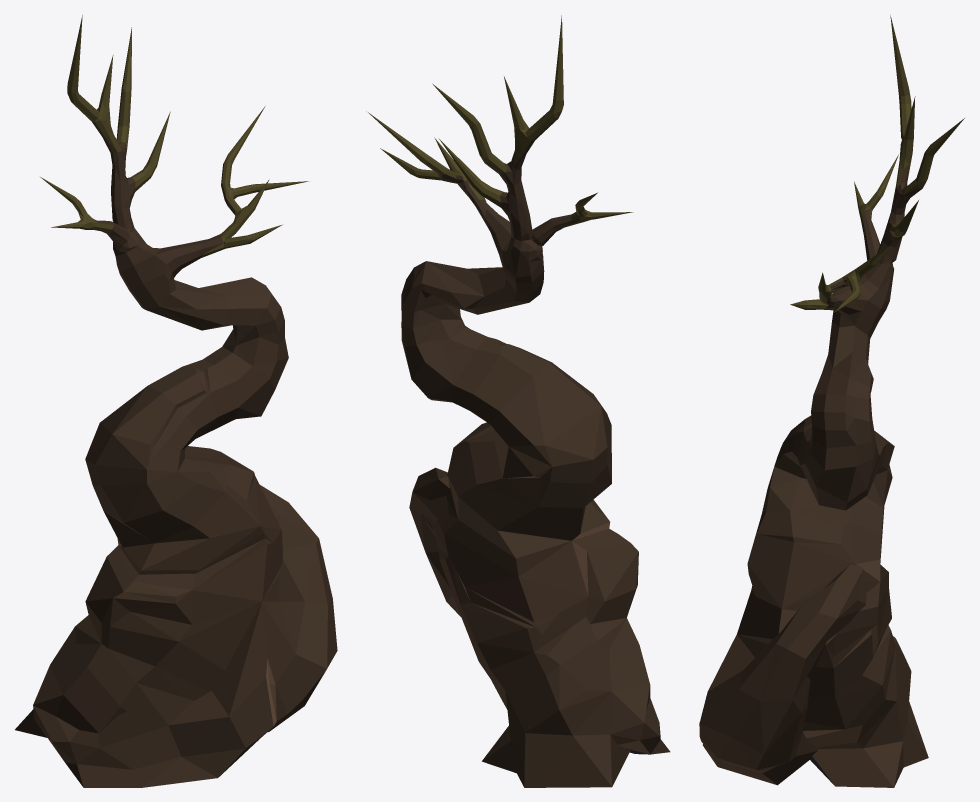
Rendered from SM_Tree_010.glb.
3 renders of one model, left to right at view 1: azimuth 30°, elevation 25°; view 2: azimuth 150°, elevation 25°; view 3: azimuth 270°, elevation 25°, orthographic. The views are drawn at different scales.
Parts seen in each view (by area): view 1: SM_Tree_010; view 2: SM_Tree_010; view 3: SM_Tree_010.
Part boxes in pixels (x1=…): SM_Tree_010: x1=15, y1=15, x2=337, y2=787; SM_Tree_010: x1=366, y1=15, x2=670, y2=787; SM_Tree_010: x1=699, y1=15, x2=964, y2=787.
Size of the model in its own units: 3.24 by 8.48 by 2.77.
Materials: 1 (1 with a texture image).
